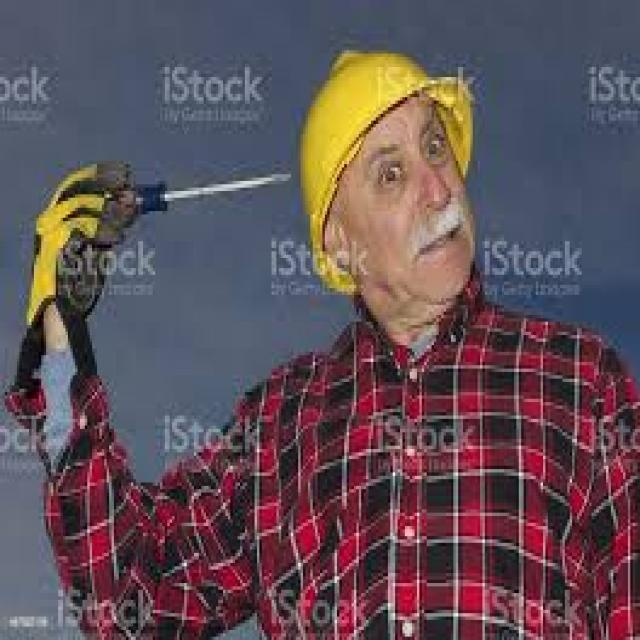screwdriver: (100, 154, 304, 241)
